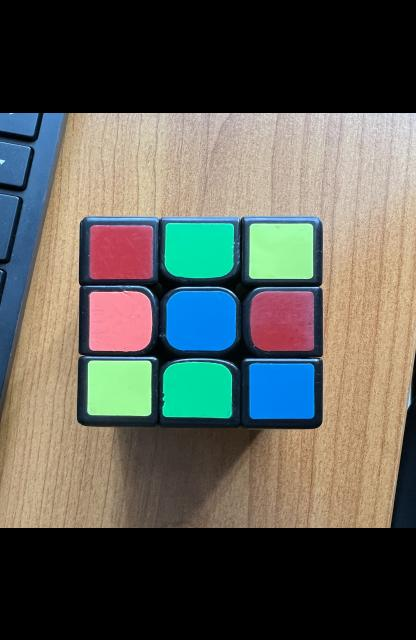Blue: (167, 290, 237, 350), (249, 362, 314, 419)
Green: (164, 221, 234, 278), (163, 361, 232, 418)
Orange: (89, 290, 152, 350)
Red: (250, 291, 314, 350), (89, 224, 153, 279)
Yellow: (87, 359, 152, 415), (249, 222, 313, 278)
